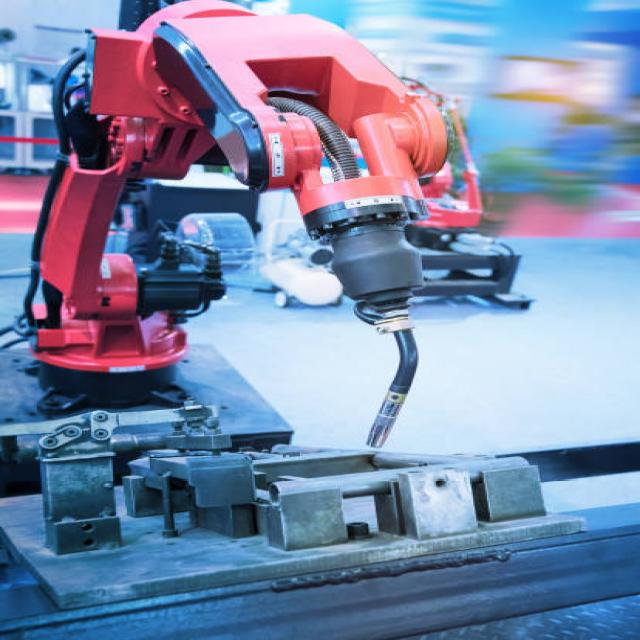Robotic-arm: (0, 0, 454, 392)
